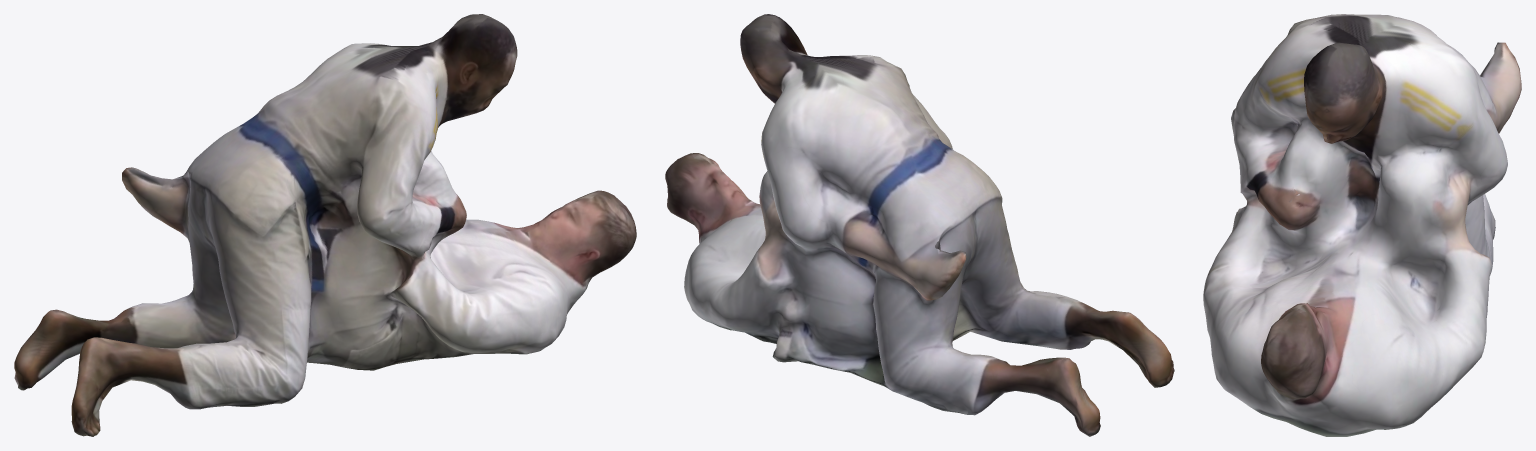
Rendered from double-leg-5.glb.
3 views of the same model, side by side, from view 1: azimuth 30°, elevation 25°; view 2: azimuth 150°, elevation 25°; view 3: azimuth 270°, elevation 25° (orthographic). The views are drawn at different scales.
Bounding box in the file's own units: 2.33 × 1.3 × 1.03.
Materials: 1 (1 with a texture image).
